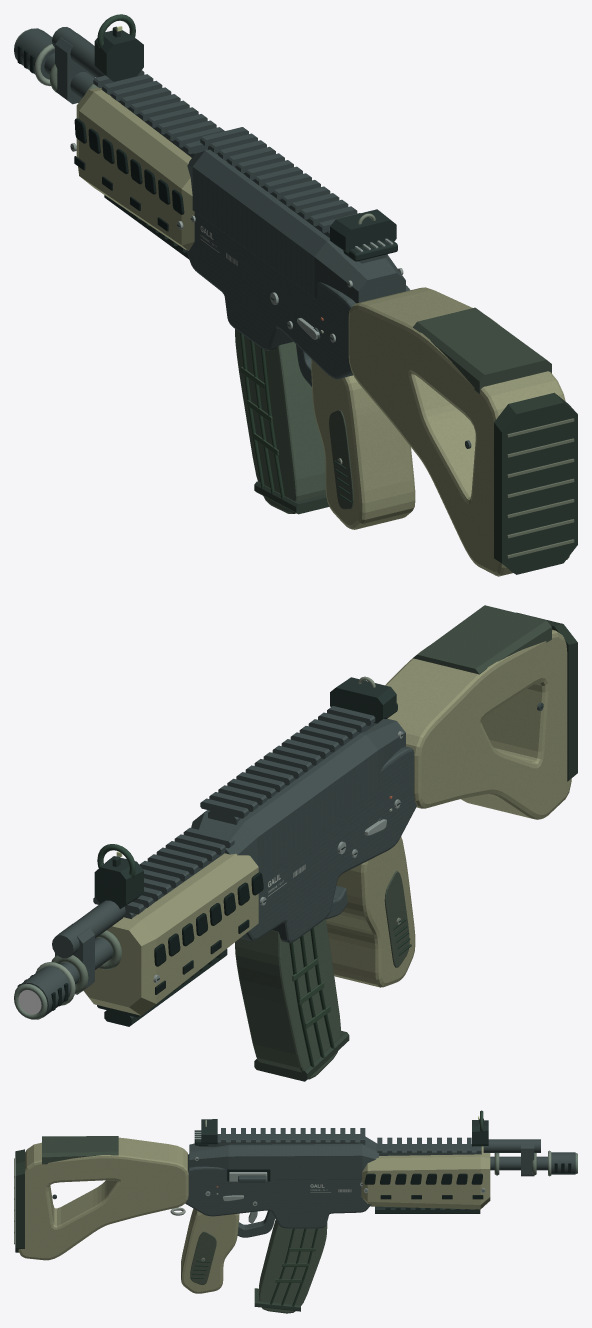
File: galil.glb
3 renders of one model, top to bottom at view 1: azimuth 30°, elevation 25°; view 2: azimuth 150°, elevation 25°; view 3: azimuth 270°, elevation 25°, orthographic. The views are drawn at different scales.
Parts seen in each view (by area): view 1: galil, magazine; view 2: galil, magazine; view 3: galil, magazine, bolt.
Part boxes in pixels (x1,y1,x2,y2): galil: (14, 14, 577, 576); magazine: (235, 329, 329, 514); galil: (14, 605, 577, 1026); magazine: (235, 919, 349, 1081); galil: (14, 1110, 577, 1293); magazine: (254, 1219, 327, 1313); bolt: (229, 1172, 267, 1182).
Bounding box in the file's own units: 0.1553 × 0.5658 × 1.47.
29 materials, 16 textured.
